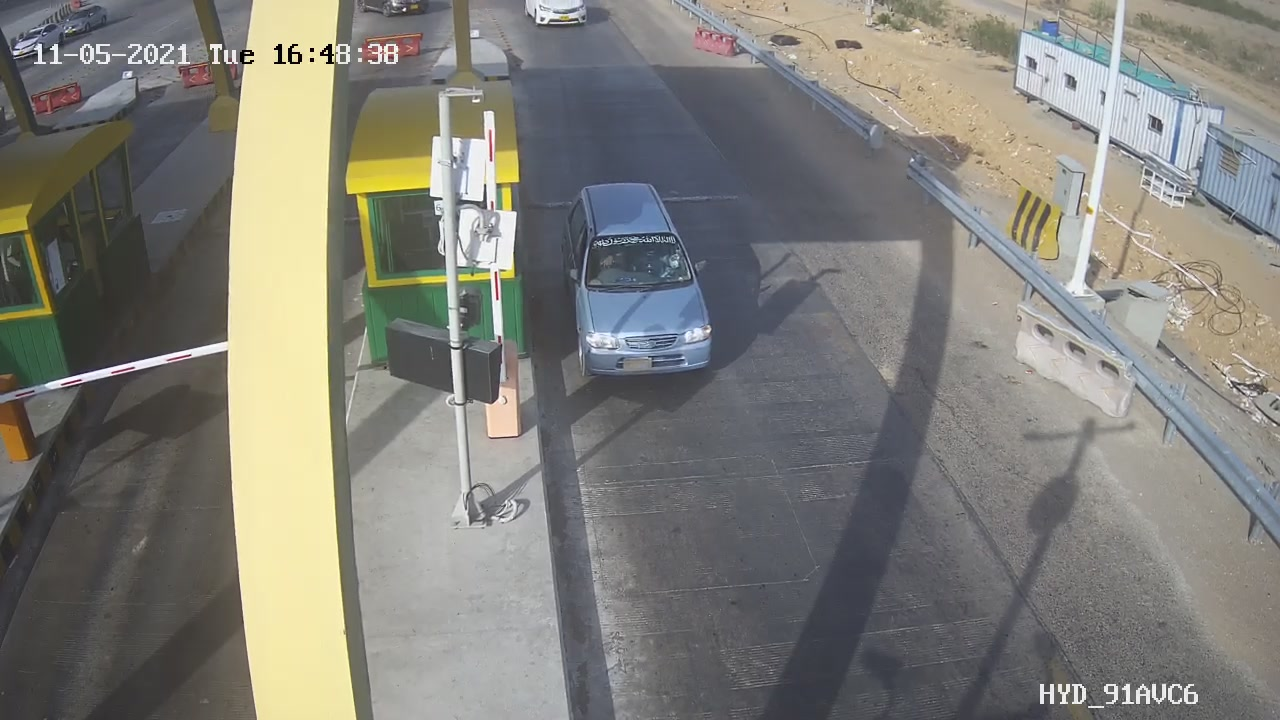F1: (548, 170, 734, 395)
